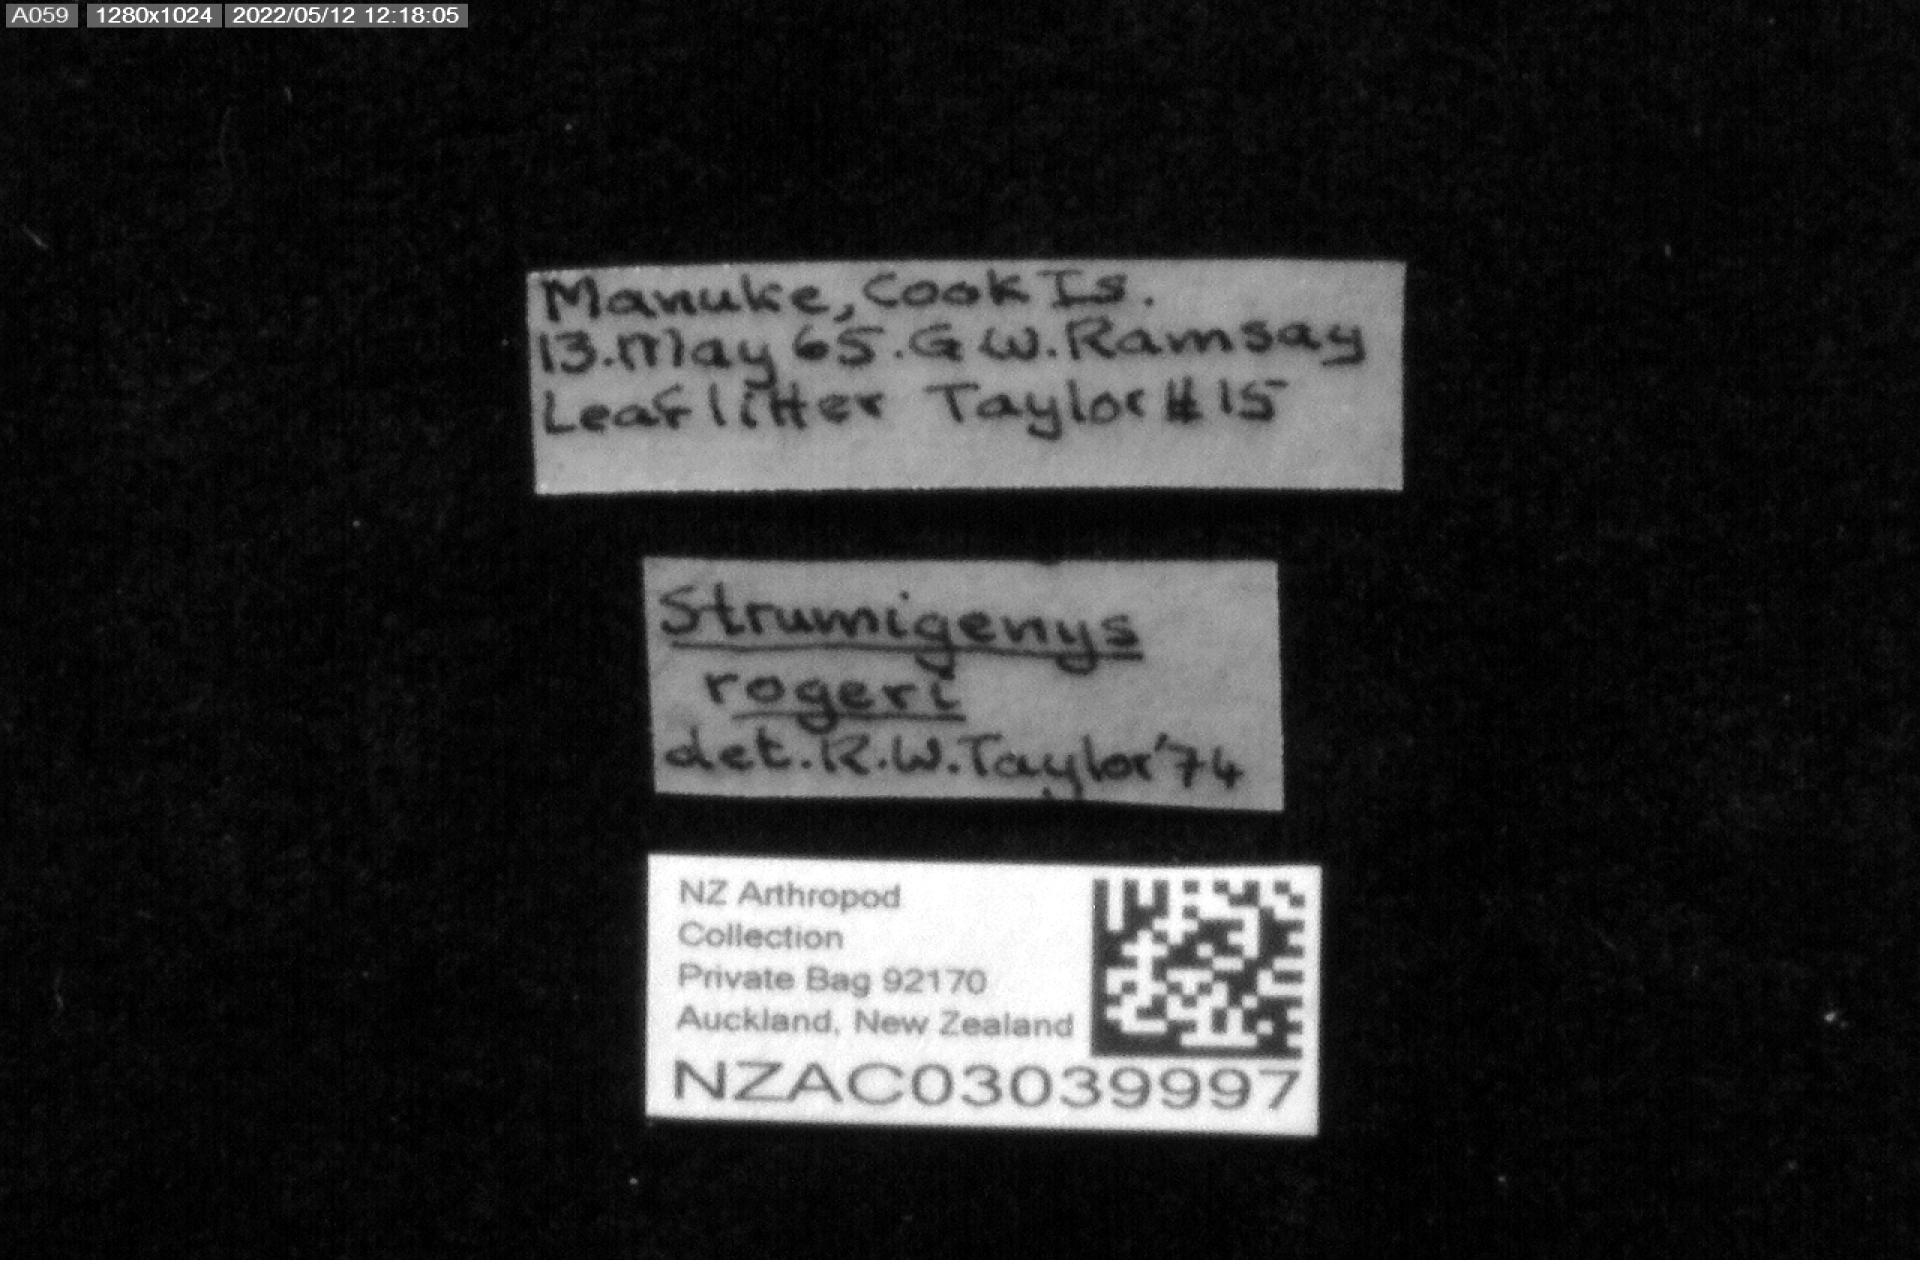hand_label: (529, 260, 1406, 494), (646, 556, 1283, 810)
typed_label: (646, 853, 1320, 1134)
